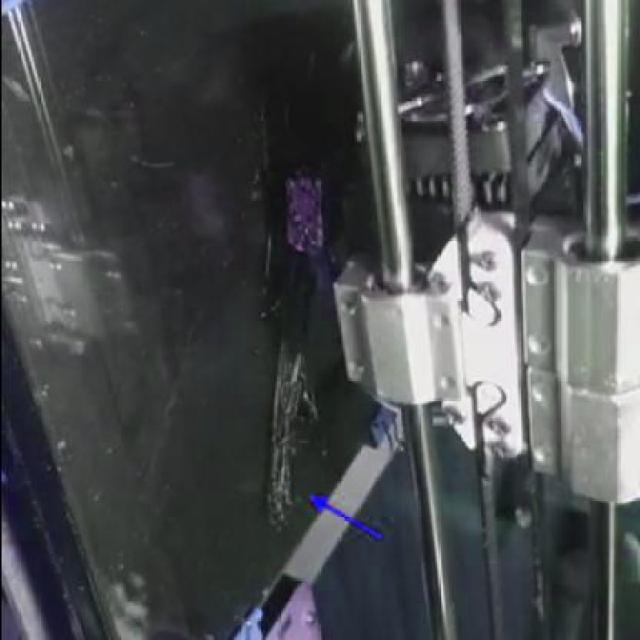Spaghetti: (262, 496, 298, 535), (296, 384, 319, 430)
